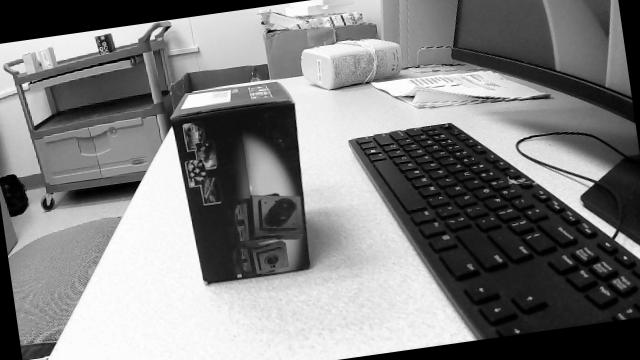CameraBox2: (170, 81, 314, 286)
